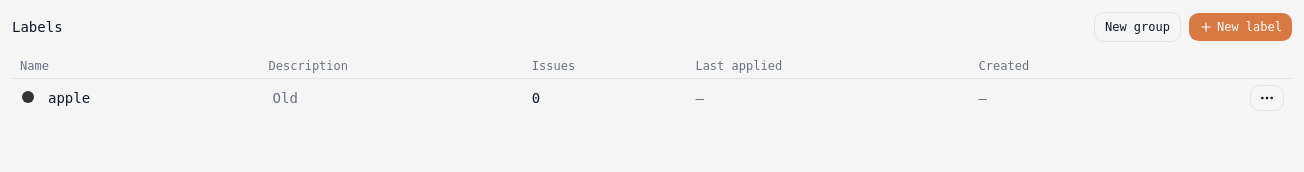
Test: labels settings › clicking the description edits it inline
Click the button with aria-label "Edit description for apple".
click(285, 98)  # box [268,86,302,110]
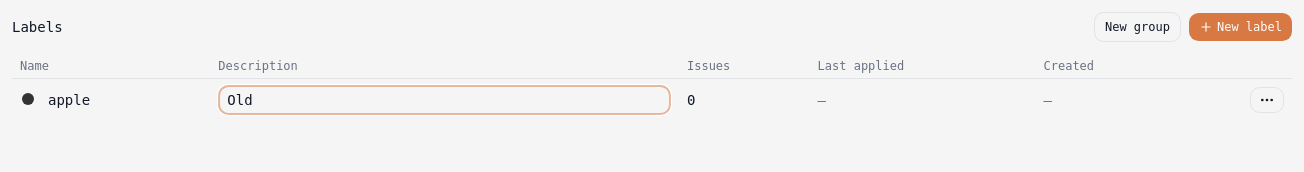
Replace the text in the field named "Label description" with "Fresh" at coordinates (445, 100), box [218,85,671,115]
Then press Enter
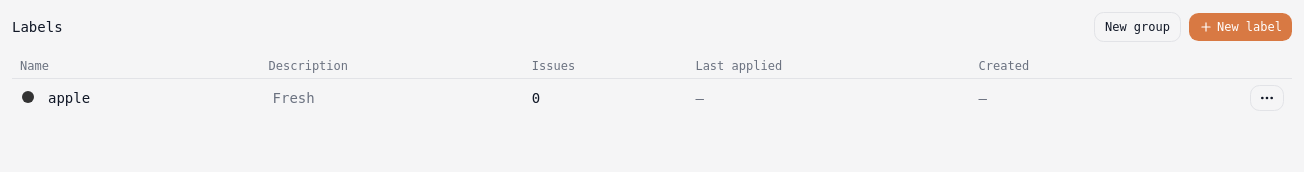
Check: the button "Fresh" is shown, box [268,86,319,110]
